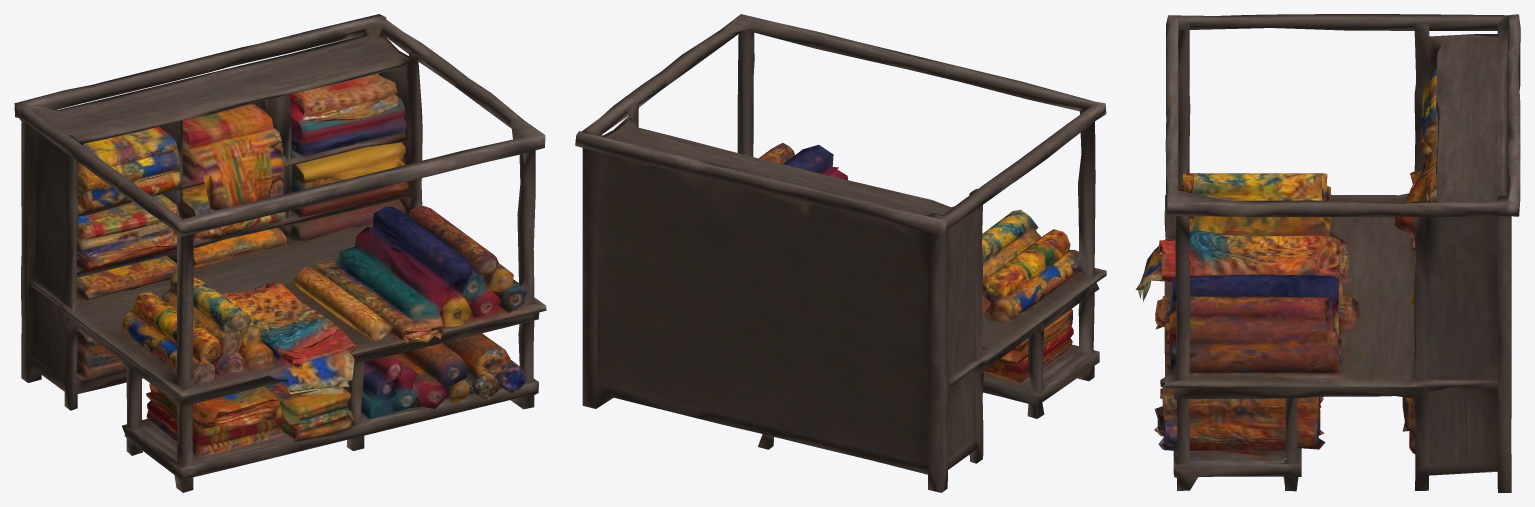
File: market_cloth_stall.glb
3 renders of one model, left to right at view 1: azimuth 30°, elevation 25°; view 2: azimuth 150°, elevation 25°; view 3: azimuth 270°, elevation 25°, orthographic. The views are drawn at different scales.
Visible parts, largest first — view 1: tripo_node_ce85edd1-796e-4fc1-bbb7-f3306c0e8a79; view 2: tripo_node_ce85edd1-796e-4fc1-bbb7-f3306c0e8a79; view 3: tripo_node_ce85edd1-796e-4fc1-bbb7-f3306c0e8a79.
Boxes of the visible parts, x1,y1,x2,y2 form: tripo_node_ce85edd1-796e-4fc1-bbb7-f3306c0e8a79: (14,14,546,492); tripo_node_ce85edd1-796e-4fc1-bbb7-f3306c0e8a79: (575,14,1106,492); tripo_node_ce85edd1-796e-4fc1-bbb7-f3306c0e8a79: (1135,14,1520,492).
Size of the model in its own units: 1 by 0.7083 by 0.8479.
1 material, 1 textured.
